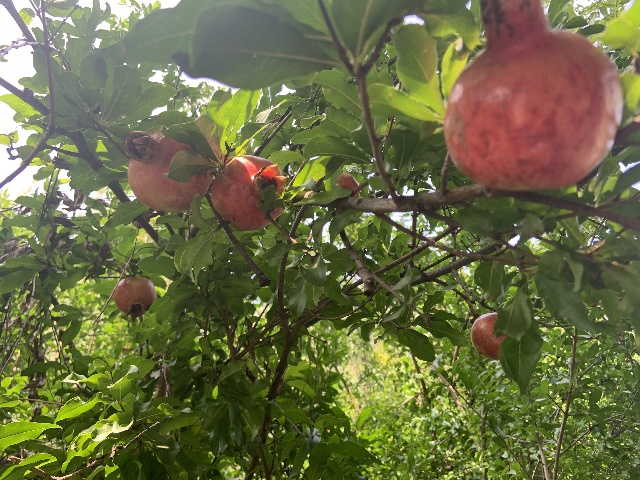ripe: (443, 0, 622, 190), (125, 127, 210, 211), (211, 155, 287, 230), (113, 276, 155, 322), (470, 312, 506, 359), (335, 173, 359, 197)
